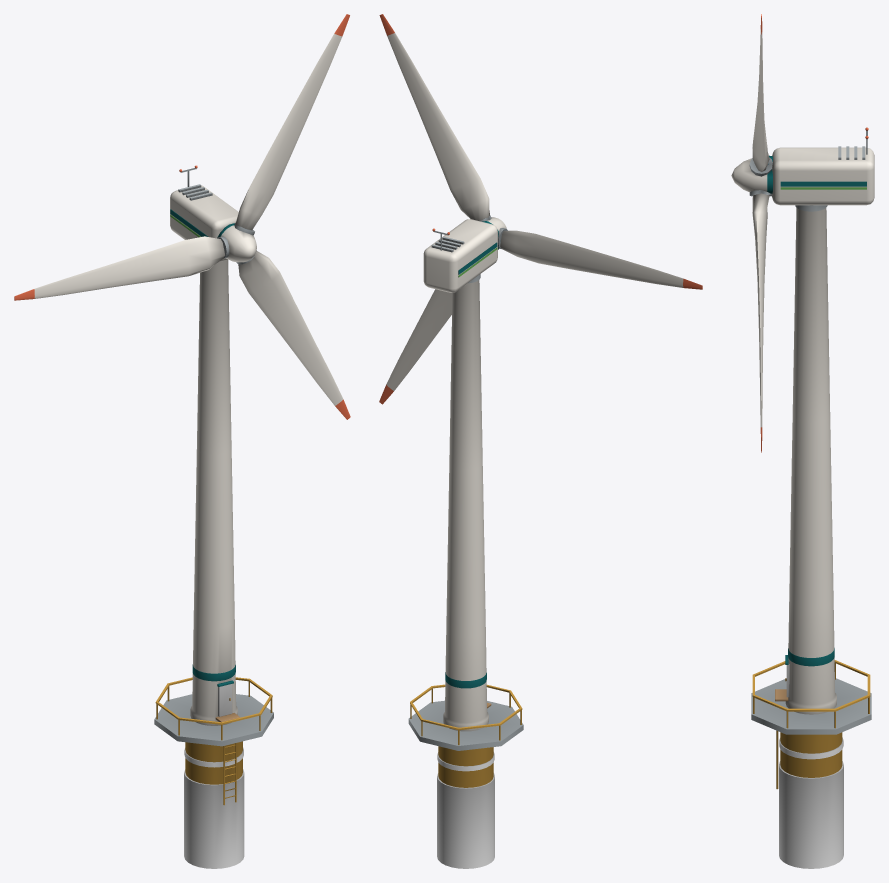
Rendered from wind_turbine_offshore.fbx.
3 renders of one model, left to right at view 1: azimuth 30°, elevation 25°; view 2: azimuth 150°, elevation 25°; view 3: azimuth 270°, elevation 25°, orthographic. The views are drawn at different scales.
Parts seen in each view (by area): view 1: wind_turbine_offshore, Rotor; view 2: wind_turbine_offshore, Rotor; view 3: wind_turbine_offshore, Rotor.
Boxes of the visible parts, box(x1,y1,x2,y2) form: wind_turbine_offshore: box(154, 165, 273, 868); Rotor: box(14, 14, 350, 419); wind_turbine_offshore: box(408, 219, 523, 868); Rotor: box(379, 14, 702, 404); wind_turbine_offshore: box(751, 127, 874, 868); Rotor: box(731, 14, 772, 452).
Bounding box in the file's own units: 21.88 × 51.75 × 7.48.
